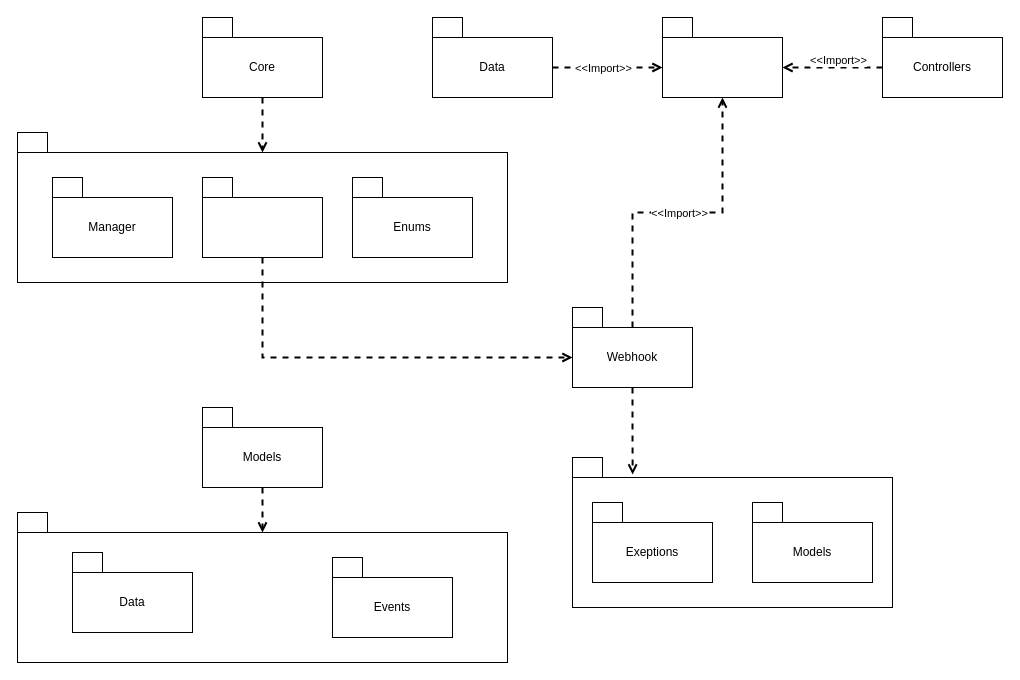
This 1020x680 diagram has some shape labels left out. Each missing label, with the centre of its shape:
Entity framework: point (722, 67)
Services: point (262, 227)
